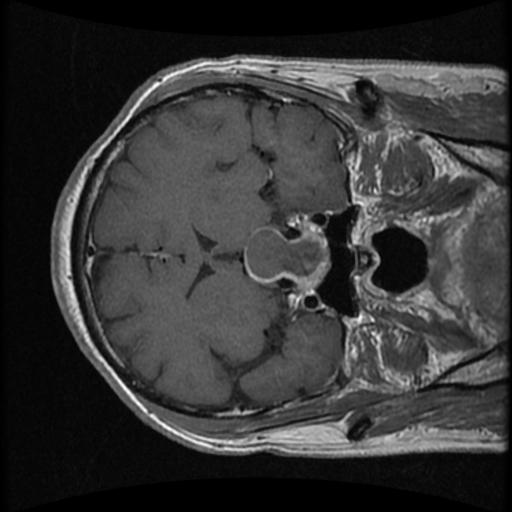pituitary tumour: (244, 219, 330, 294)
